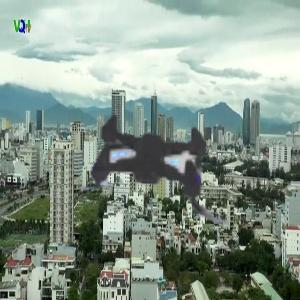drone: (3, 14, 288, 299)
